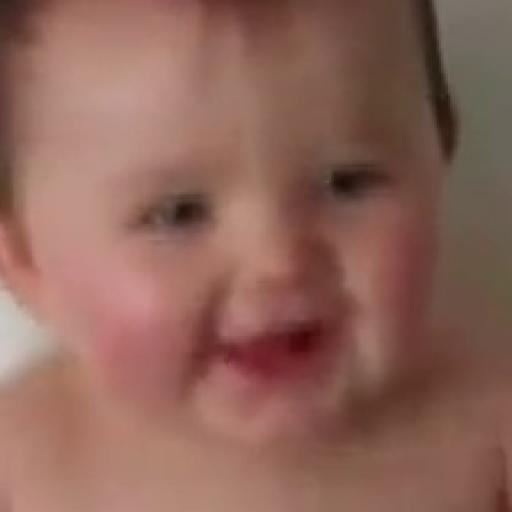Autism: (26, 8, 512, 510)
